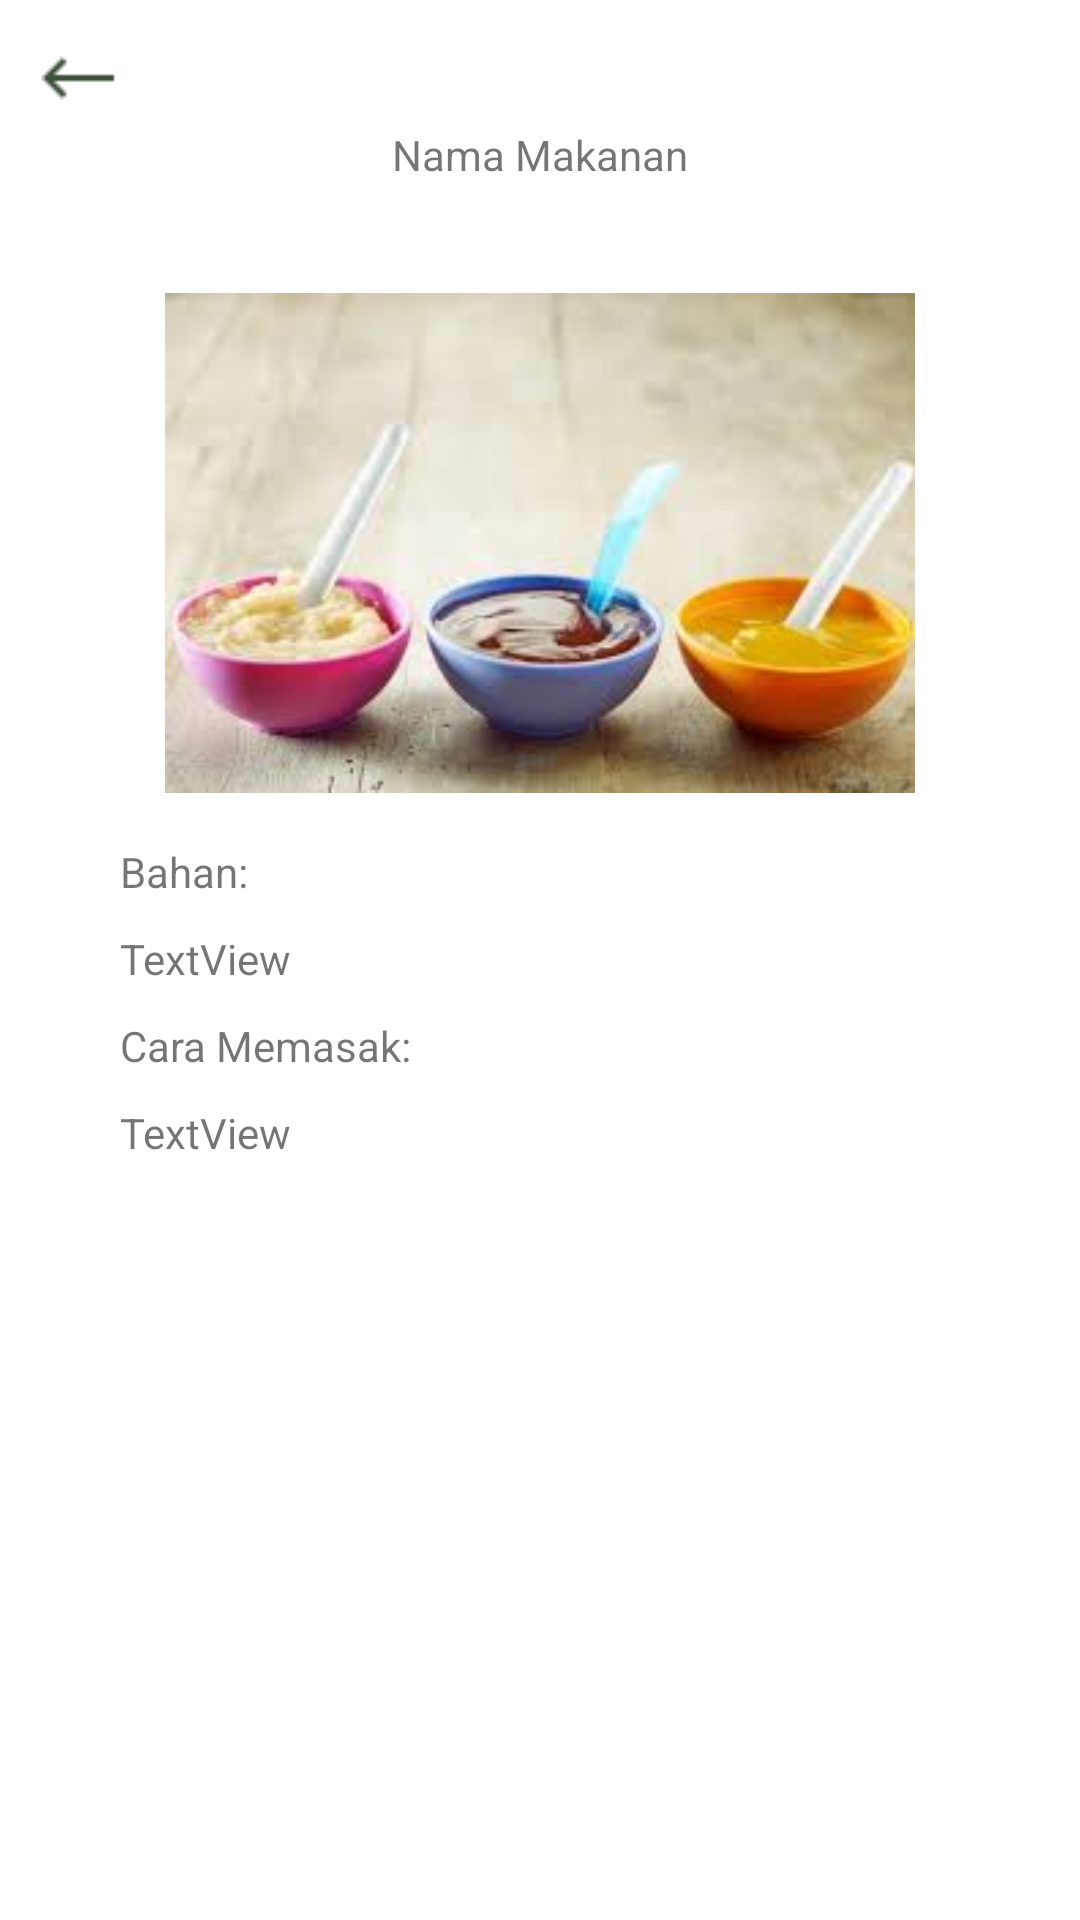

Named icons in this screenshot (1080px×1920px) and their centers, point (x, y):
left arrow: point (78, 78)
